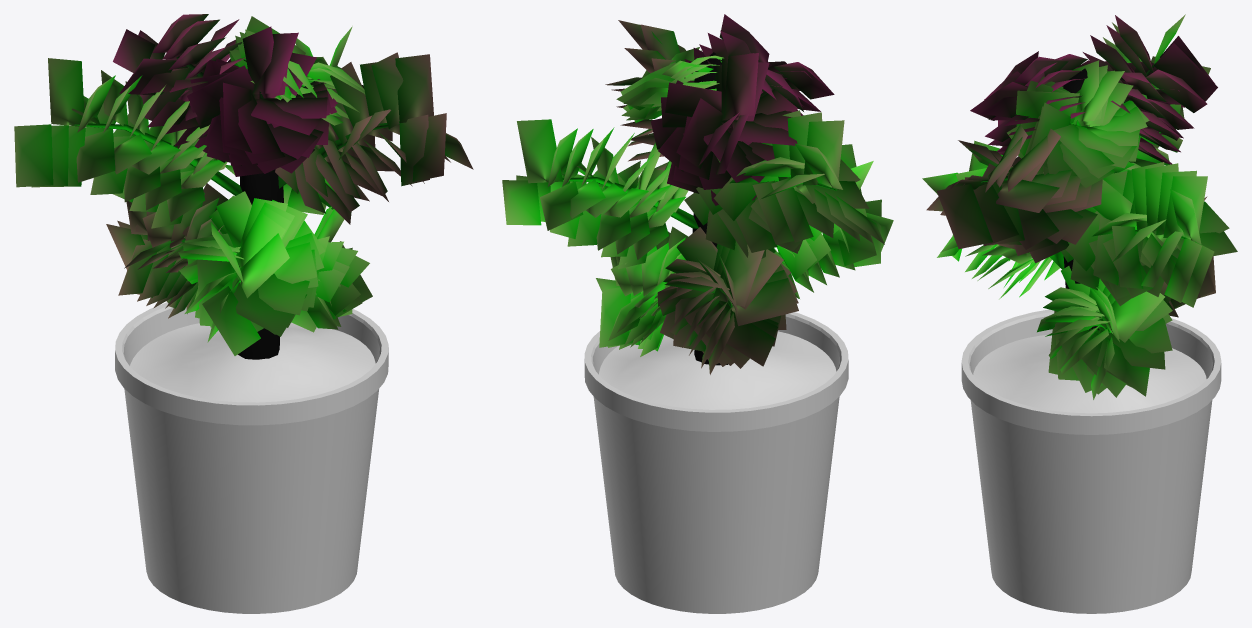
Rendered from Plant_in_Pot.fbx.
3 renders of one model, left to right at view 1: azimuth 30°, elevation 25°; view 2: azimuth 150°, elevation 25°; view 3: azimuth 270°, elevation 25°, orthographic. The views are drawn at different scales.
Parts seen in each view (by area): view 1: Tree_1, pDisc2, Tree_0; view 2: Tree_1, pDisc2, Tree_0; view 3: Tree_1, pDisc2, Tree_0.
Part boxes in pixels (x1,y1,x2,y2): Tree_1: [14, 14, 473, 355]; pDisc2: [115, 302, 388, 613]; Tree_0: [74, 56, 399, 359]; Tree_1: [502, 14, 893, 374]; pDisc2: [584, 312, 848, 613]; Tree_0: [562, 52, 836, 365]; Tree_1: [922, 14, 1237, 399]; pDisc2: [961, 309, 1221, 613]; Tree_0: [981, 63, 1186, 333].
Size of the model in its own units: 22.96 by 33.27 by 17.94.
